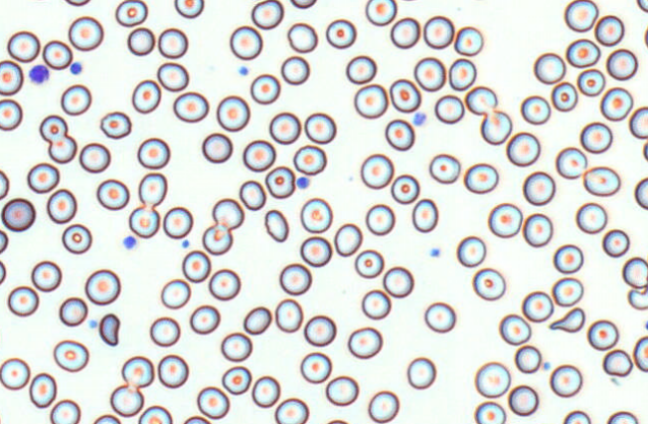PLT: (28, 65, 51, 83), (295, 174, 312, 191), (68, 62, 84, 77), (413, 111, 428, 127), (122, 235, 137, 250), (427, 247, 440, 259), (237, 66, 249, 77)
RBC: (474, 361, 510, 398), (84, 268, 120, 305), (487, 202, 522, 238), (353, 83, 388, 118), (68, 16, 103, 51), (216, 95, 250, 131), (506, 131, 540, 166), (53, 339, 89, 372), (360, 153, 393, 189), (1, 197, 35, 231), (522, 170, 555, 205), (229, 25, 262, 60), (600, 86, 633, 121), (480, 109, 512, 145), (300, 197, 332, 233), (583, 165, 620, 196), (110, 383, 143, 417), (347, 326, 382, 358), (413, 56, 445, 91), (196, 386, 229, 419), (549, 364, 582, 397), (472, 267, 505, 300), (6, 30, 40, 62), (564, 0, 598, 32), (463, 162, 498, 193), (173, 91, 208, 122), (121, 355, 154, 387), (128, 205, 160, 238), (303, 314, 336, 346), (279, 262, 311, 295), (96, 178, 129, 210), (242, 139, 275, 171), (269, 111, 301, 144), (555, 146, 587, 179), (137, 137, 170, 169), (157, 354, 188, 388), (389, 78, 420, 112), (423, 15, 454, 49), (46, 188, 76, 223), (522, 212, 552, 247), (565, 38, 600, 68), (367, 390, 399, 422), (499, 313, 531, 345), (299, 351, 331, 383), (208, 268, 240, 300), (521, 290, 553, 322), (304, 112, 336, 144), (533, 52, 565, 84), (575, 202, 607, 234), (580, 121, 612, 153), (325, 375, 358, 406), (264, 165, 295, 198), (162, 206, 193, 239), (293, 144, 326, 175), (131, 79, 161, 113), (212, 198, 244, 229), (27, 162, 59, 193), (7, 285, 39, 316), (587, 319, 619, 350), (300, 235, 331, 267), (606, 48, 637, 80), (0, 357, 30, 390), (181, 249, 211, 282), (464, 85, 497, 115), (138, 172, 167, 206), (274, 298, 303, 332), (29, 372, 56, 408), (160, 278, 191, 309), (61, 223, 92, 254), (424, 301, 455, 332), (382, 266, 413, 297), (201, 132, 232, 163), (79, 142, 110, 173), (60, 84, 91, 115), (157, 27, 188, 58), (202, 223, 232, 255), (551, 276, 583, 306), (508, 384, 538, 416), (31, 260, 61, 292), (384, 118, 414, 150), (365, 203, 395, 235), (456, 235, 486, 267), (594, 14, 624, 46), (406, 356, 435, 389), (333, 223, 362, 256), (149, 316, 180, 346), (189, 304, 220, 334), (429, 153, 460, 183), (250, 73, 280, 104), (390, 17, 420, 48), (287, 22, 317, 53), (345, 54, 376, 84), (325, 18, 356, 48), (251, 375, 280, 407), (220, 332, 252, 361), (99, 110, 131, 139), (251, 0, 283, 29), (156, 62, 188, 91), (448, 57, 476, 90), (411, 198, 438, 232), (221, 365, 251, 395), (58, 296, 88, 326), (361, 289, 391, 319), (553, 243, 583, 273), (42, 39, 72, 69), (390, 173, 419, 204), (454, 25, 483, 56), (274, 397, 308, 423), (434, 94, 464, 123), (280, 55, 309, 85), (520, 95, 550, 124), (47, 134, 76, 163), (354, 249, 383, 278), (115, 0, 147, 26), (0, 59, 23, 95), (264, 209, 289, 242), (39, 114, 67, 143), (243, 305, 271, 334), (239, 180, 266, 210), (551, 81, 578, 111), (365, 0, 396, 26), (622, 256, 647, 288), (577, 68, 605, 96), (514, 344, 541, 373), (602, 228, 629, 257), (127, 27, 154, 55), (49, 399, 80, 423), (0, 98, 22, 130), (474, 401, 506, 423), (138, 405, 172, 423), (629, 106, 647, 139), (174, 0, 203, 18), (633, 335, 647, 372), (634, 177, 647, 209), (606, 410, 638, 423), (562, 410, 591, 423), (0, 169, 9, 199), (92, 414, 121, 423), (289, 0, 316, 9), (182, 415, 211, 423), (0, 229, 8, 253), (64, 0, 90, 6), (0, 259, 6, 284), (636, 0, 648, 12), (642, 139, 648, 161), (643, 24, 648, 48), (326, 418, 349, 423), (0, 326, 3, 351), (26, 0, 53, 2)
Schistocyte: (549, 309, 585, 334), (604, 350, 633, 378), (98, 313, 120, 349), (627, 288, 648, 312)
